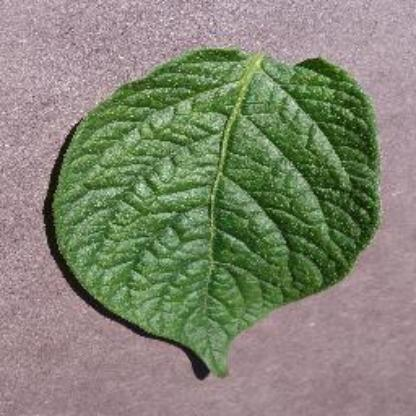Healthy-plant: (37, 40, 390, 376)
